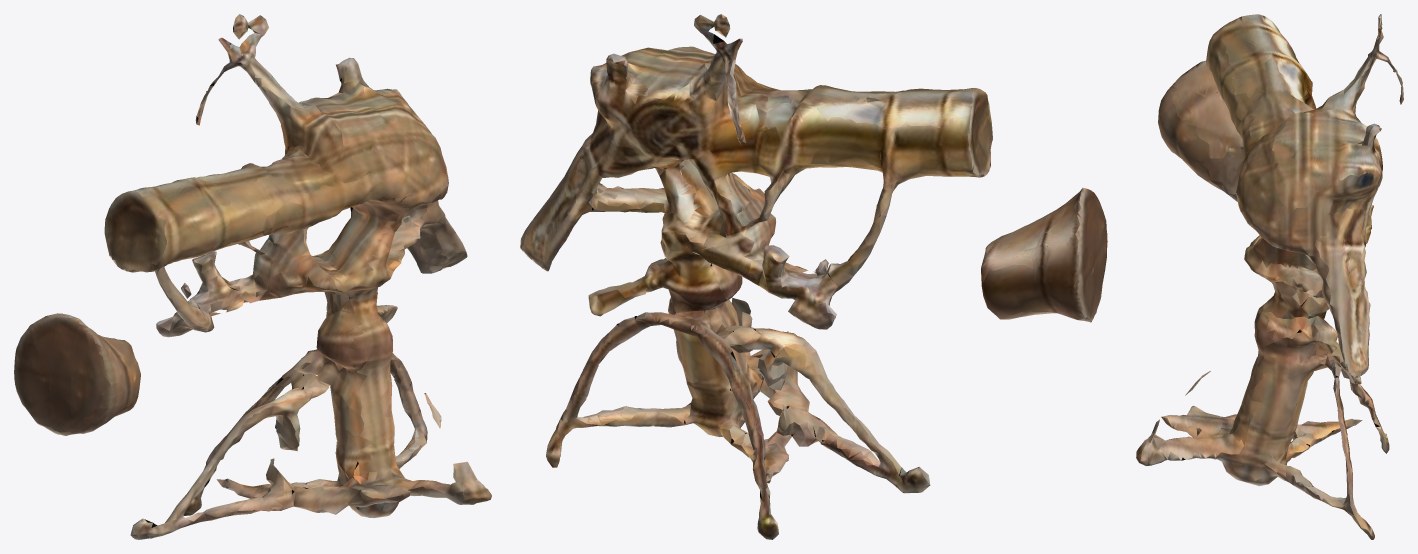
File: 14_10_46_21_a-single-sextant.glb
3 views of the same model, side by side, from view 1: azimuth 30°, elevation 25°; view 2: azimuth 150°, elevation 25°; view 3: azimuth 270°, elevation 25° (orthographic). The views are drawn at different scales.
Parts seen in each view (by area): view 1: world; view 2: world; view 3: world.
Part boxes in pixels (x1,y1,x2,y2): world: [14, 14, 491, 539]; world: [520, 14, 1107, 539]; world: [1136, 14, 1403, 539].
Bounding box in the file's own units: 0.8917 × 0.8455 × 0.4453.
Materials: 1 (1 with a texture image).
